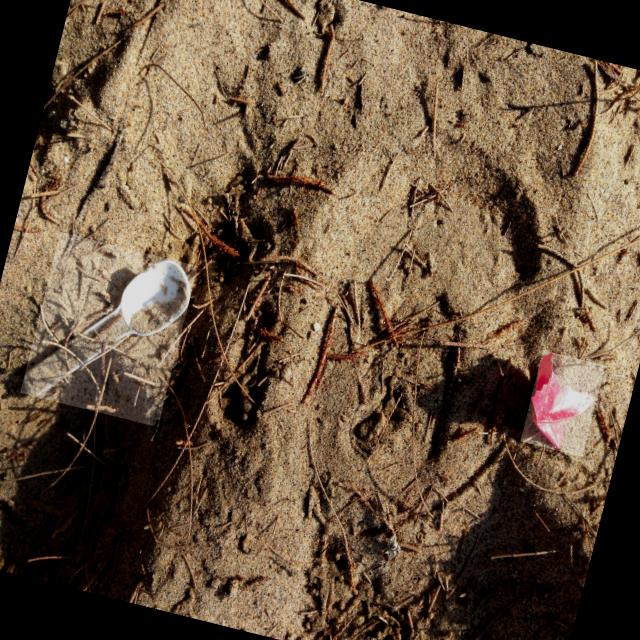Other container: (24, 260, 190, 397)
Other plastic: (531, 352, 596, 451)
Unlabeled litter: (385, 532, 399, 561)
